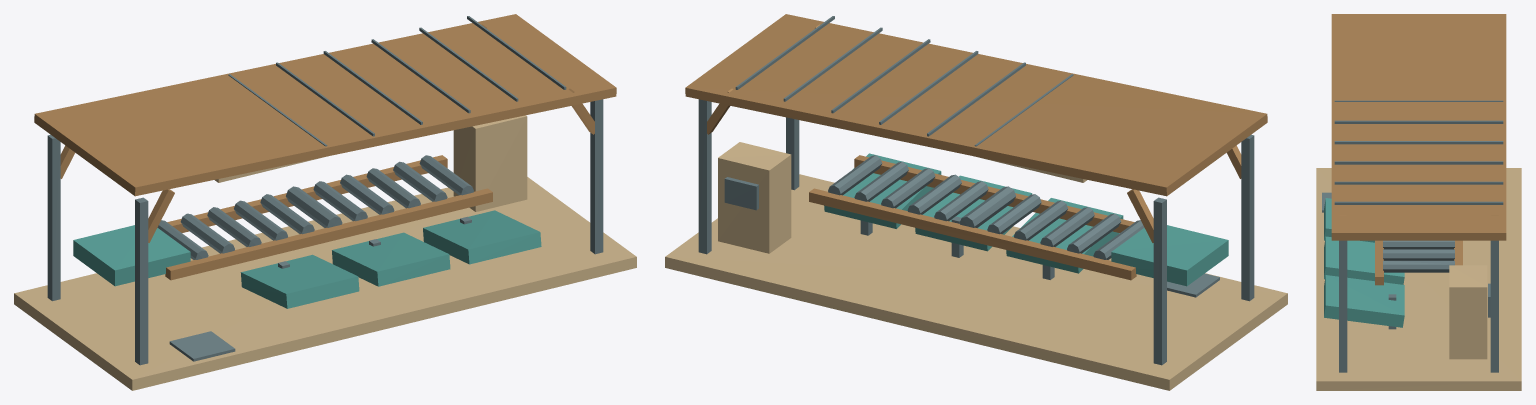
The model's file is Egg-Sorting-Station.glb.
3 renders of one model, left to right at view 1: azimuth 30°, elevation 25°; view 2: azimuth 150°, elevation 25°; view 3: azimuth 270°, elevation 25°, orthographic. The views are drawn at different scales.
Parts seen in each view (by area): view 1: egg-sorting-station-static-egg-sorting-station-sage-canopy-m, egg-sorting-station-static-egg-sorting-station-hygienic-conc, egg-sorting-station-static-egg-sorting-station-dark-iron-mat, egg-sorting-station-static-egg-sorting-station-blue-grey-tra, egg-sorting-station-static-egg-sorting-station-timber-accent; view 2: egg-sorting-station-static-egg-sorting-station-hygienic-conc, egg-sorting-station-static-egg-sorting-station-sage-canopy-m, egg-sorting-station-static-egg-sorting-station-dark-iron-mat, egg-sorting-station-static-egg-sorting-station-blue-grey-tra, egg-sorting-station-static-egg-sorting-station-timber-accent; view 3: egg-sorting-station-static-egg-sorting-station-sage-canopy-m, egg-sorting-station-static-egg-sorting-station-hygienic-conc, egg-sorting-station-static-egg-sorting-station-dark-iron-mat, egg-sorting-station-static-egg-sorting-station-blue-grey-tra, egg-sorting-station-static-egg-sorting-station-timber-accent.
Part boxes in pixels (bbox=[...]): egg-sorting-station-static-egg-sorting-station-sage-canopy-m: bbox=[34, 14, 616, 196]; egg-sorting-station-static-egg-sorting-station-hygienic-conc: bbox=[14, 115, 636, 390]; egg-sorting-station-static-egg-sorting-station-dark-iron-mat: bbox=[47, 16, 603, 365]; egg-sorting-station-static-egg-sorting-station-blue-grey-tra: bbox=[73, 210, 541, 308]; egg-sorting-station-static-egg-sorting-station-timber-accent: bbox=[60, 24, 594, 280]; egg-sorting-station-static-egg-sorting-station-hygienic-conc: bbox=[665, 142, 1287, 390]; egg-sorting-station-static-egg-sorting-station-sage-canopy-m: bbox=[685, 14, 1267, 196]; egg-sorting-station-static-egg-sorting-station-dark-iron-mat: bbox=[698, 16, 1254, 365]; egg-sorting-station-static-egg-sorting-station-blue-grey-tra: bbox=[824, 153, 1228, 286]; egg-sorting-station-static-egg-sorting-station-timber-accent: bbox=[707, 24, 1241, 280]; egg-sorting-station-static-egg-sorting-station-sage-canopy-m: bbox=[1331, 14, 1506, 240]; egg-sorting-station-static-egg-sorting-station-hygienic-conc: bbox=[1316, 168, 1521, 390]; egg-sorting-station-static-egg-sorting-station-dark-iron-mat: bbox=[1322, 100, 1503, 372]; egg-sorting-station-static-egg-sorting-station-blue-grey-tra: bbox=[1324, 198, 1404, 327]; egg-sorting-station-static-egg-sorting-station-timber-accent: bbox=[1339, 215, 1498, 285].
Size of the model in its own units: 6.65 by 2.45 by 2.7.
